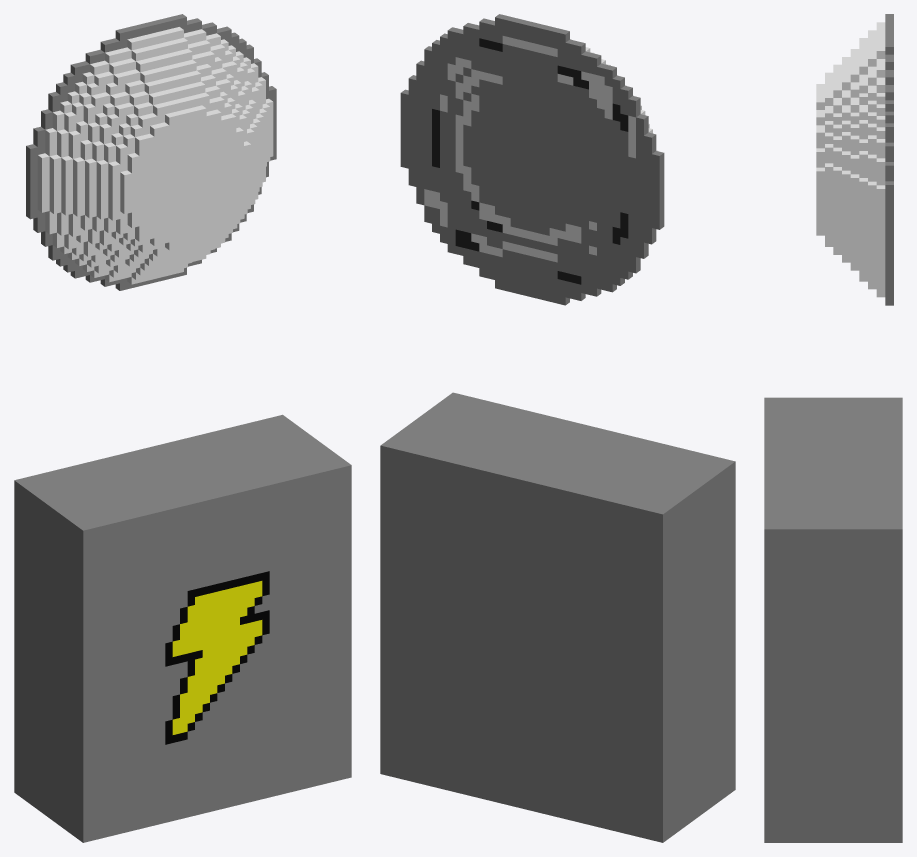
The model's file is powerboxwhite.obj.
3 views of the same model, side by side, from view 1: azimuth 30°, elevation 25°; view 2: azimuth 150°, elevation 25°; view 3: azimuth 270°, elevation 25° (orthographic). The views are drawn at different scales.
Size of the model in its own units: 36 by 95 by 16.
Materials: 1 (1 with a texture image).
